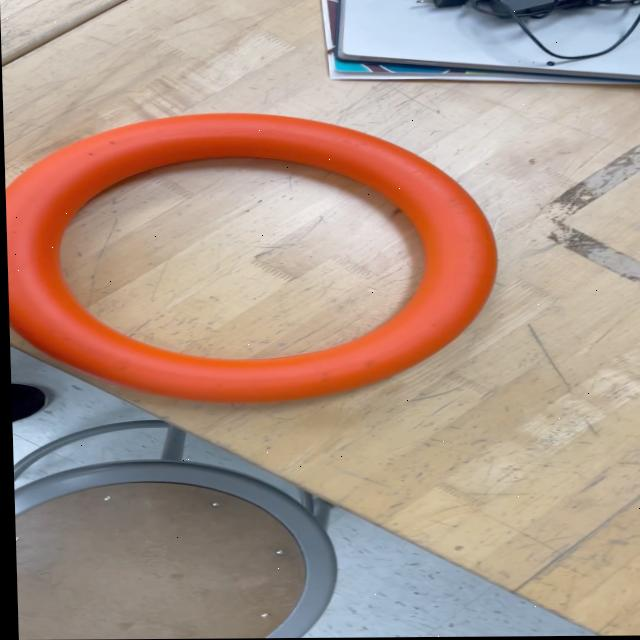note: (3, 108, 500, 406)
